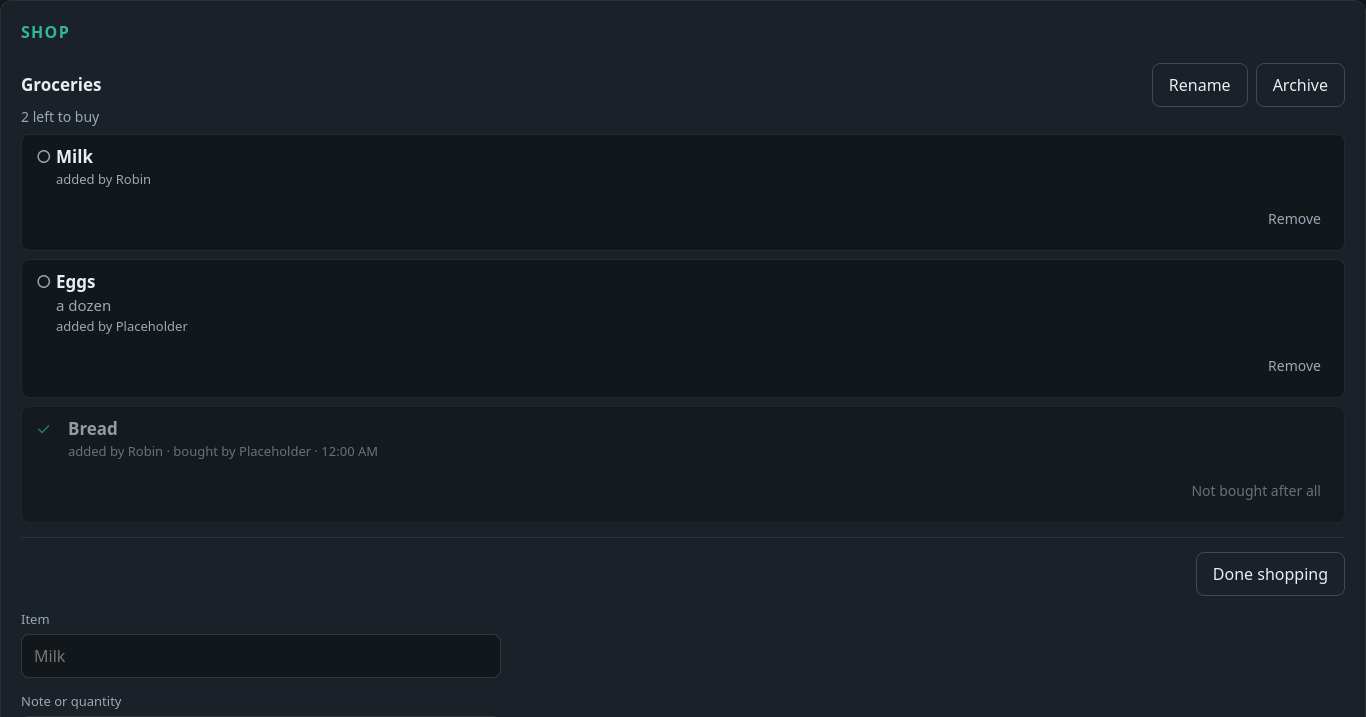
#357 AC 1 — the first tap is a question, not a write › counts only the UNBOUGHT items, which is what the RPC carries
Click the button "Done shopping" at (1270, 574), box [1196,552,1345,596]
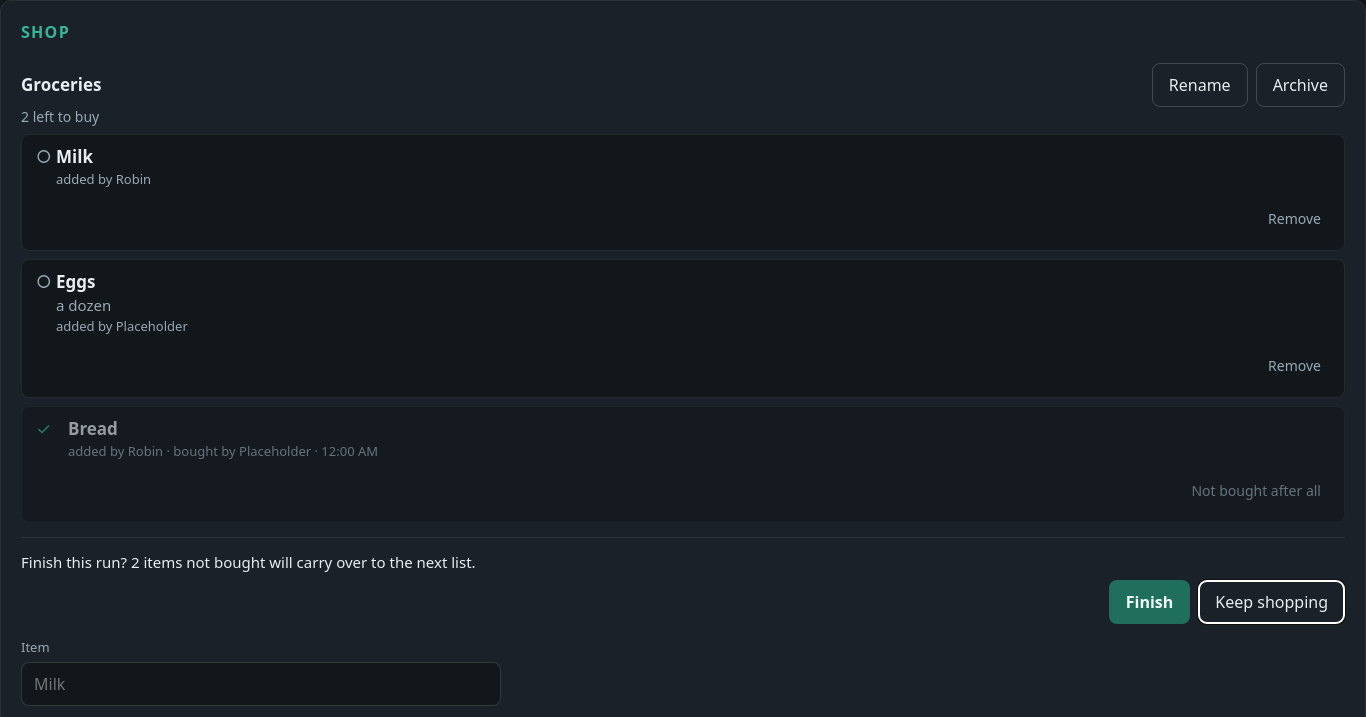
Result: the text "Finish this run? 2 items not bought will carry over to the next list." is shown at [21,552,476,572]
